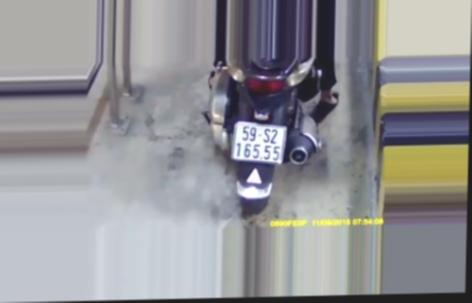License_Plate: (227, 116, 291, 167)
